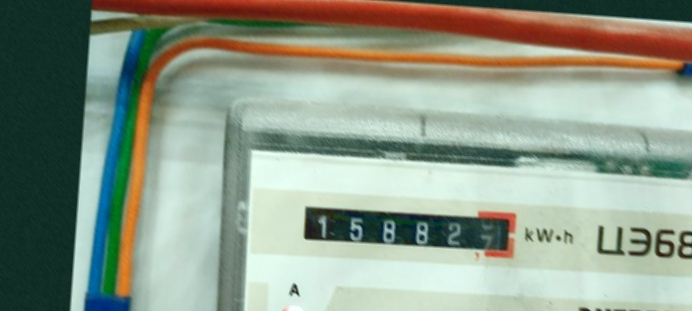1: (312, 208, 328, 237)
2: (443, 217, 461, 246)
5: (344, 212, 364, 240)
7: (475, 229, 492, 247)
8: (377, 214, 395, 243), (411, 215, 428, 244)
screen: (286, 187, 525, 265)
